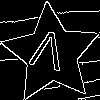V: (26, 28, 68, 80)
